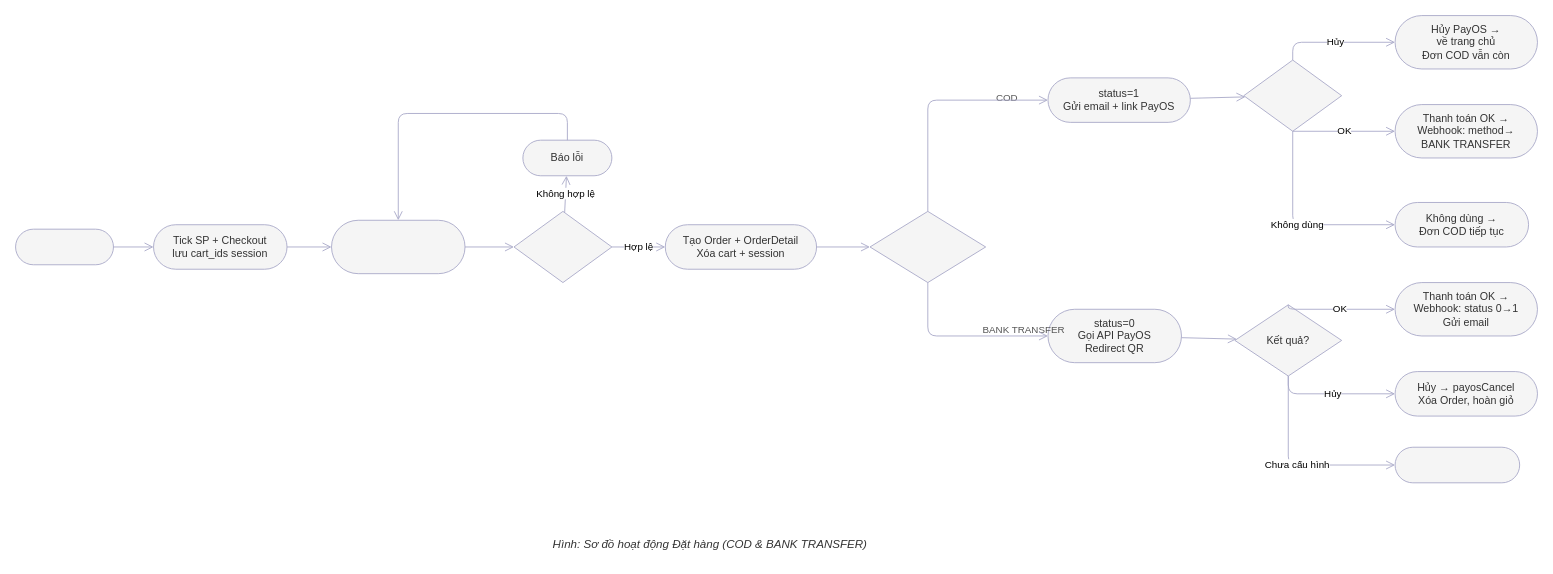
Some shapes in this 1553 by 574 pixel diagram are drawn without their labels. The shapes that lost their labels are listed below. From the top down, each one's centre as x and y in pixels, then its label:
the point at 1292,95: Dùng link?
the point at 64,246: Khách hàng
the point at 398,246: Nhập thông tin giao hàng + chọn phương thức
the point at 562,246: Validate?
the point at 927,246: Phương thức?
the point at 1457,464: Fallback VietQR
